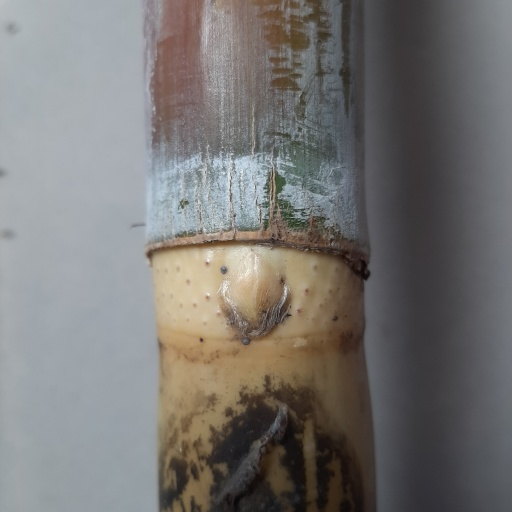Bud: (215, 252, 289, 340)
